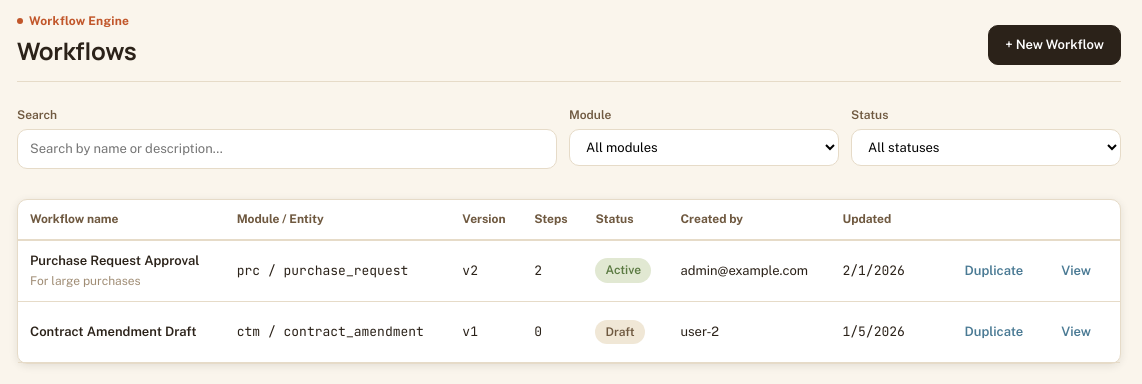
Test: WorkflowListPage › filters client-side by status
Expected: the text "Purchase Request Approval" is shown, [30,251,213,272]
Select "Inactive / Draft" in the dropdown labelled "Status": (986, 148) [851,129,1121,166]
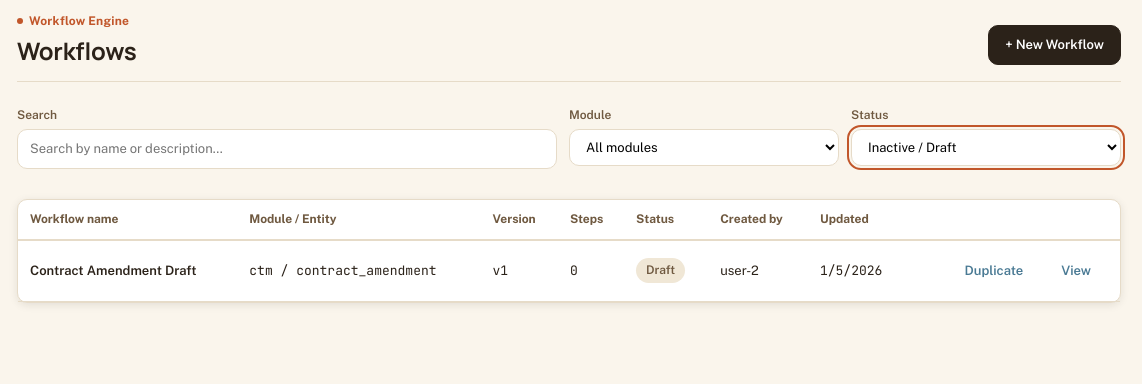
Expected: the text "Contract Amendment Draft" is shown, [30,261,225,281]
Result: the text "Purchase Request Approval" is gone
